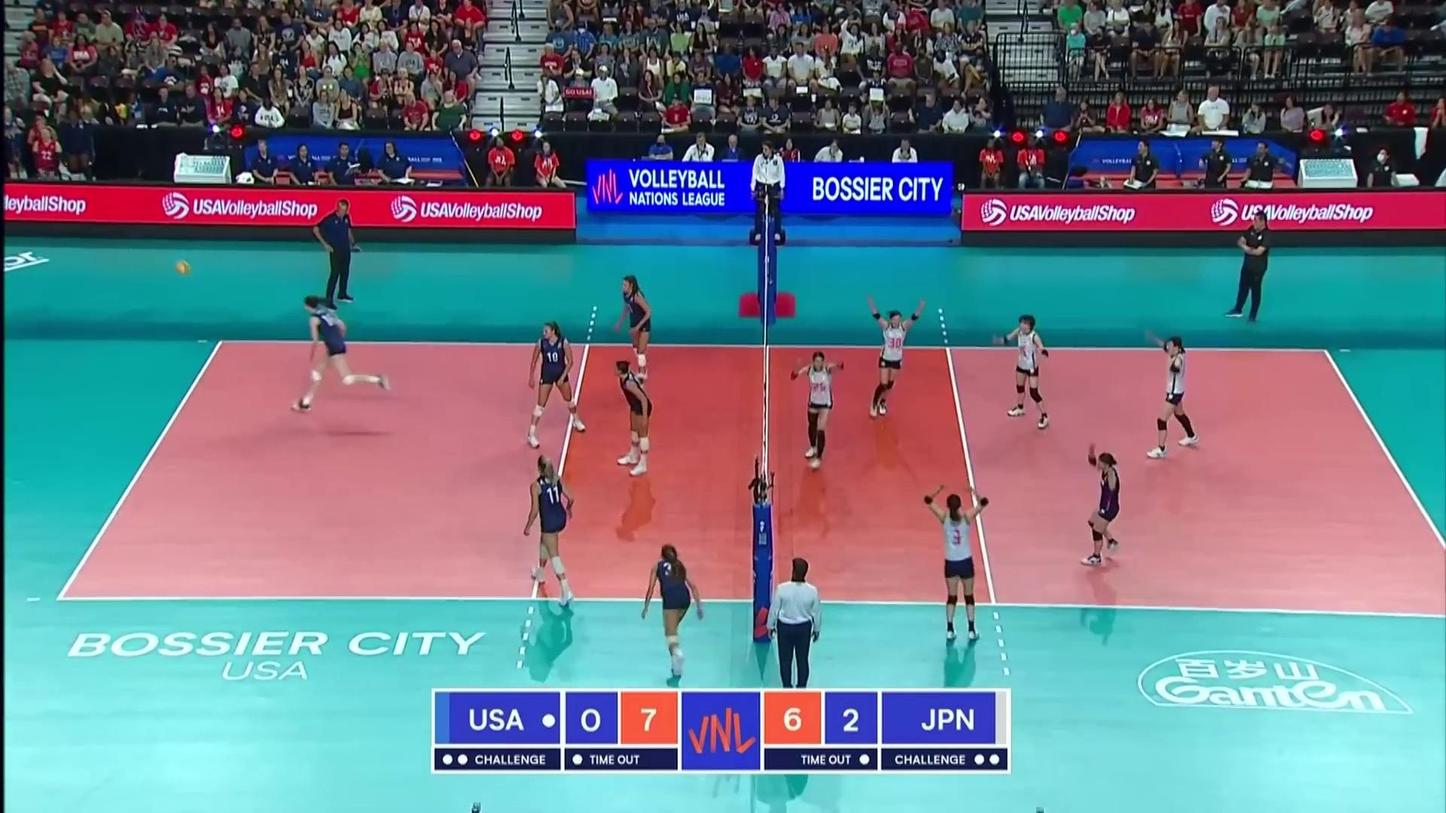player: (916, 486, 994, 638), (295, 292, 386, 413), (641, 539, 704, 696), (520, 455, 582, 590), (526, 318, 588, 441), (787, 351, 849, 468), (1078, 444, 1128, 565), (1003, 315, 1055, 425), (870, 304, 919, 420), (611, 277, 655, 405), (610, 357, 657, 473), (1156, 336, 1202, 454)
refree: (759, 559, 828, 689), (749, 141, 789, 246)
